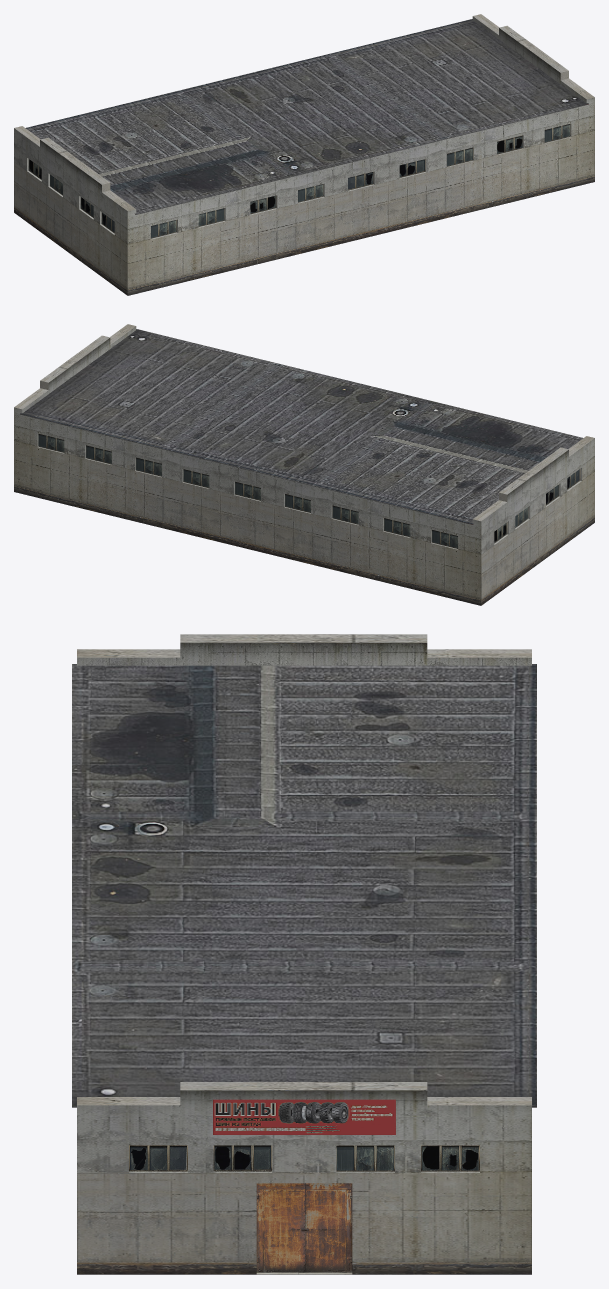
Rendered from r402_abatskoe_angar1.FBX.
3 views of the same model, one above another, from view 1: azimuth 30°, elevation 25°; view 2: azimuth 150°, elevation 25°; view 3: azimuth 270°, elevation 25° (orthographic). The views are drawn at different scales.
Visible parts, largest first — view 1: r402_abatskoe_angar1; view 2: r402_abatskoe_angar1; view 3: r402_abatskoe_angar1.
Part boxes in pixels (x1,y1,x2,y2): r402_abatskoe_angar1: [14, 14, 594, 295]; r402_abatskoe_angar1: [14, 324, 594, 605]; r402_abatskoe_angar1: [72, 634, 536, 1274].
Bounding box in the file's own units: 4742 × 2043 × 893.
